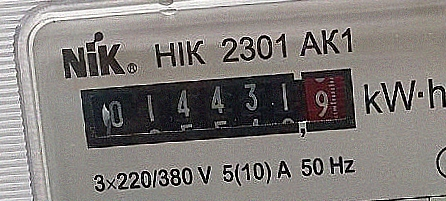0: (105, 96, 127, 130)
1: (141, 90, 160, 123), (278, 80, 292, 112)
3: (241, 81, 261, 114)
4: (172, 85, 194, 119), (207, 81, 226, 116)
9: (312, 86, 330, 118)
screen: (71, 60, 369, 157)
